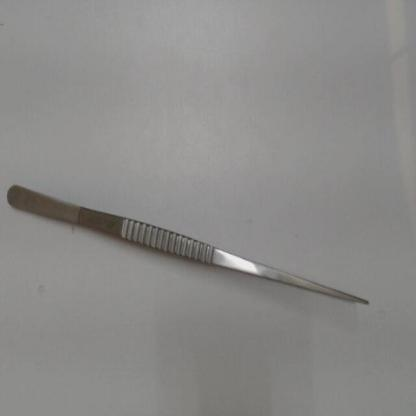DeBakey Dissector: (5, 172, 377, 322)
